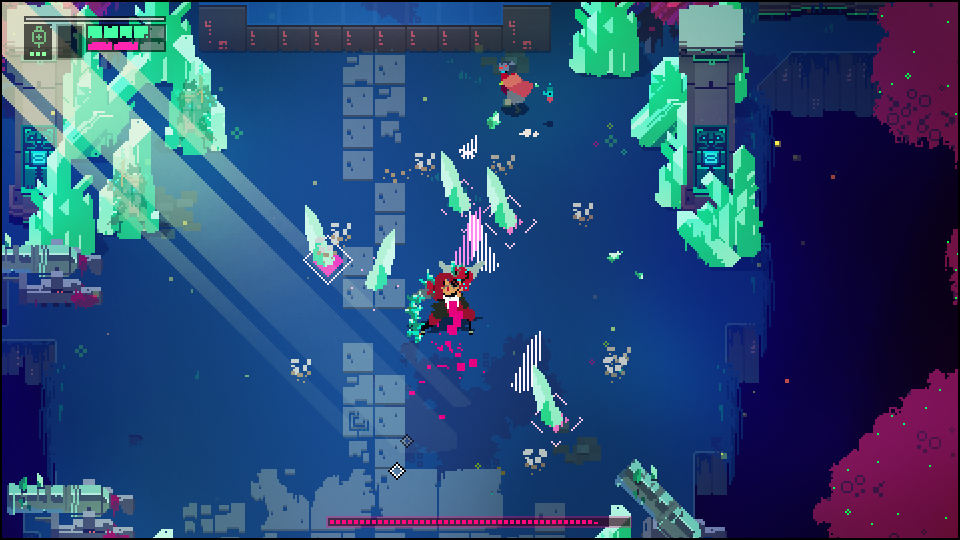hanged_crys: (300, 204, 341, 272), (526, 368, 567, 430), (483, 166, 521, 230), (439, 147, 472, 214), (365, 227, 395, 287)
hanged_man: (405, 255, 485, 345)
player: (493, 58, 536, 115)
